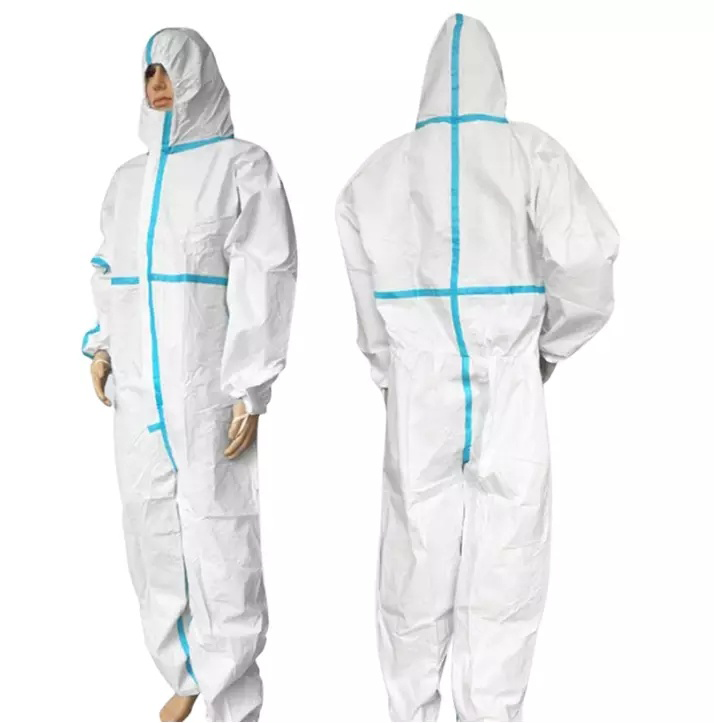Coverall: (340, 12, 616, 723), (83, 29, 300, 723)
